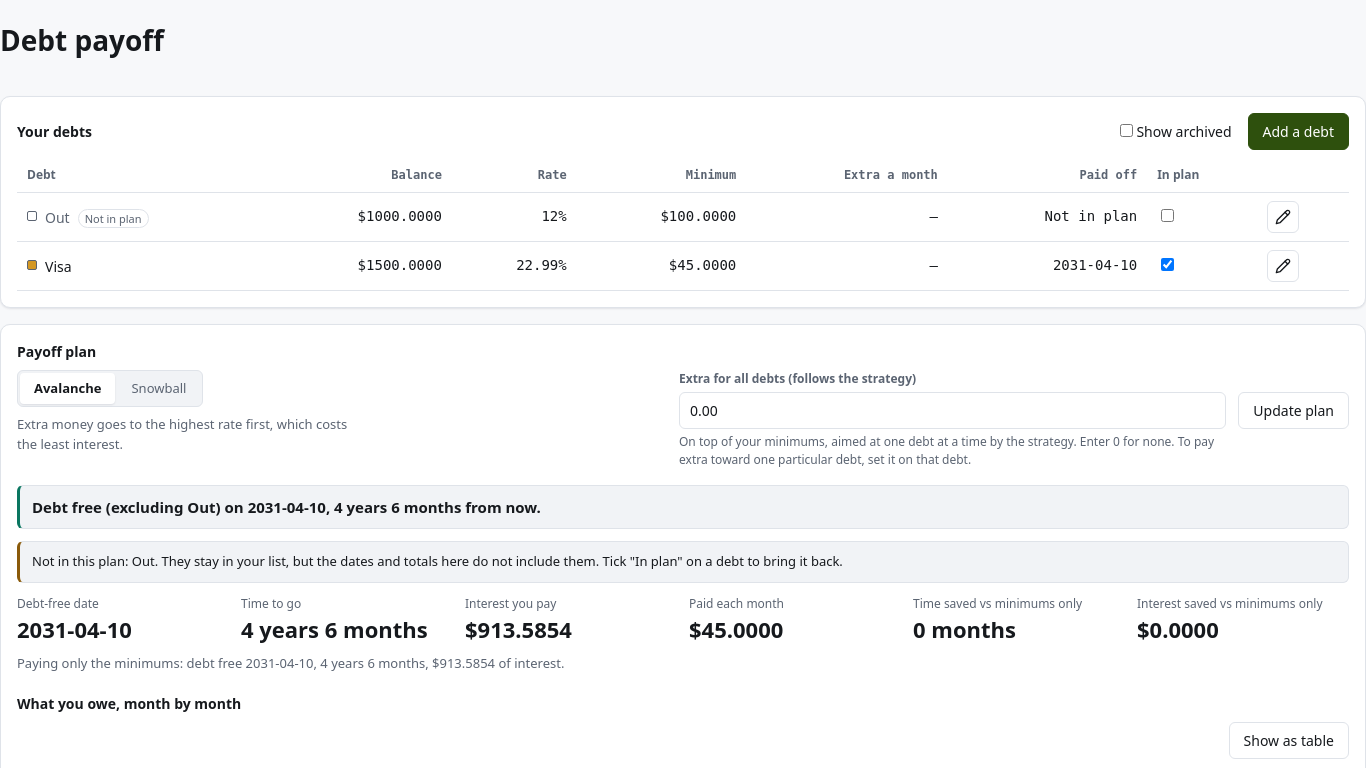
Test: leaving a debt out of the plan › is read from the saved debt when editing, and an archived debt cannot be switched on
Expected: the text "Debt free (excluding Out) on 2031-04-10, 4 years 6 months from now." is shown, x1=17 y1=484 x2=1349 y2=529
What coordinates should you click on to do the following:
click the button named "Edit Out"
I would click on:
 (1283, 216)
Its box is x1=1267 y1=200 x2=1299 y2=232.
(page scrolled)
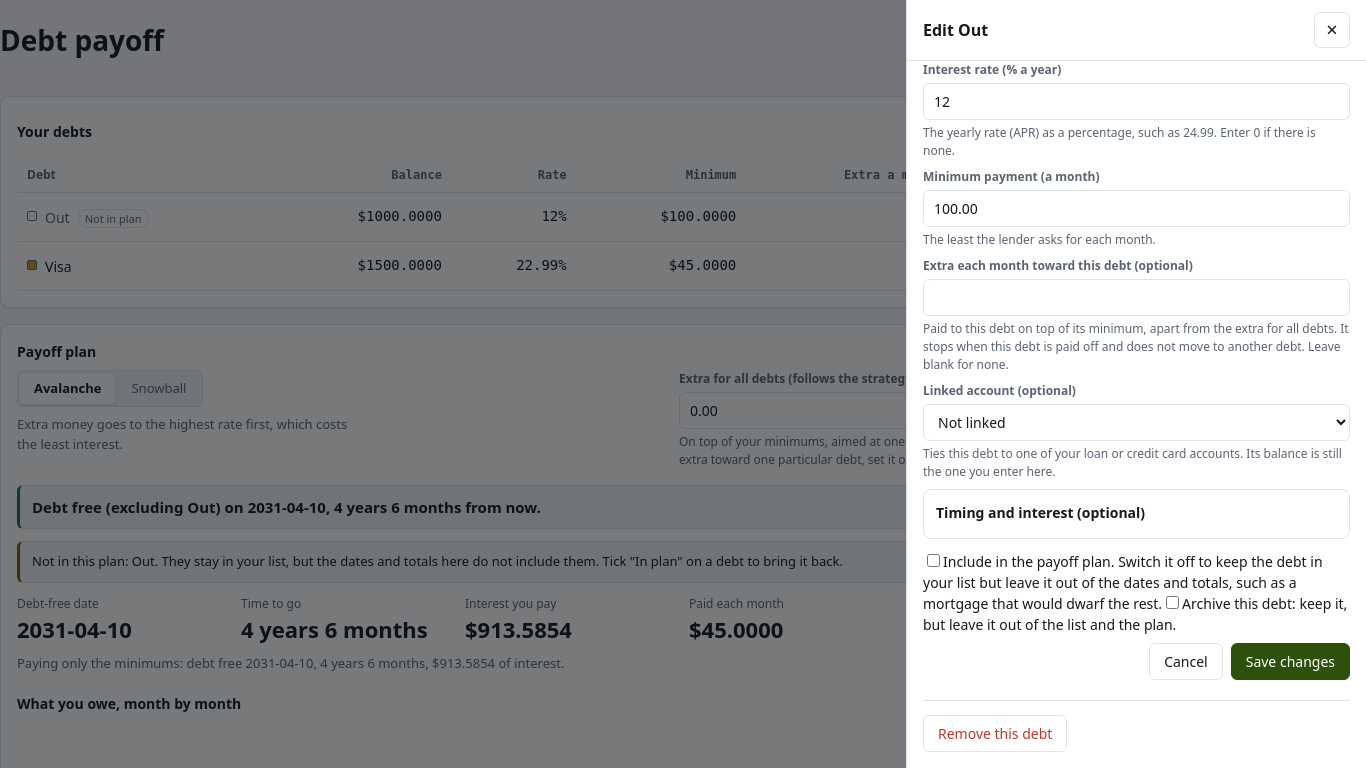
Expected: the checkbox labelled "Include in the payoff plan" is not checked, x1=927 y1=554 x2=940 y2=567
What coordinates should you click on to do the following:
click the checkbox labelled "Archive this debt"
I would click on:
 (1173, 602)
Its box is x1=1166 y1=596 x2=1179 y2=609.
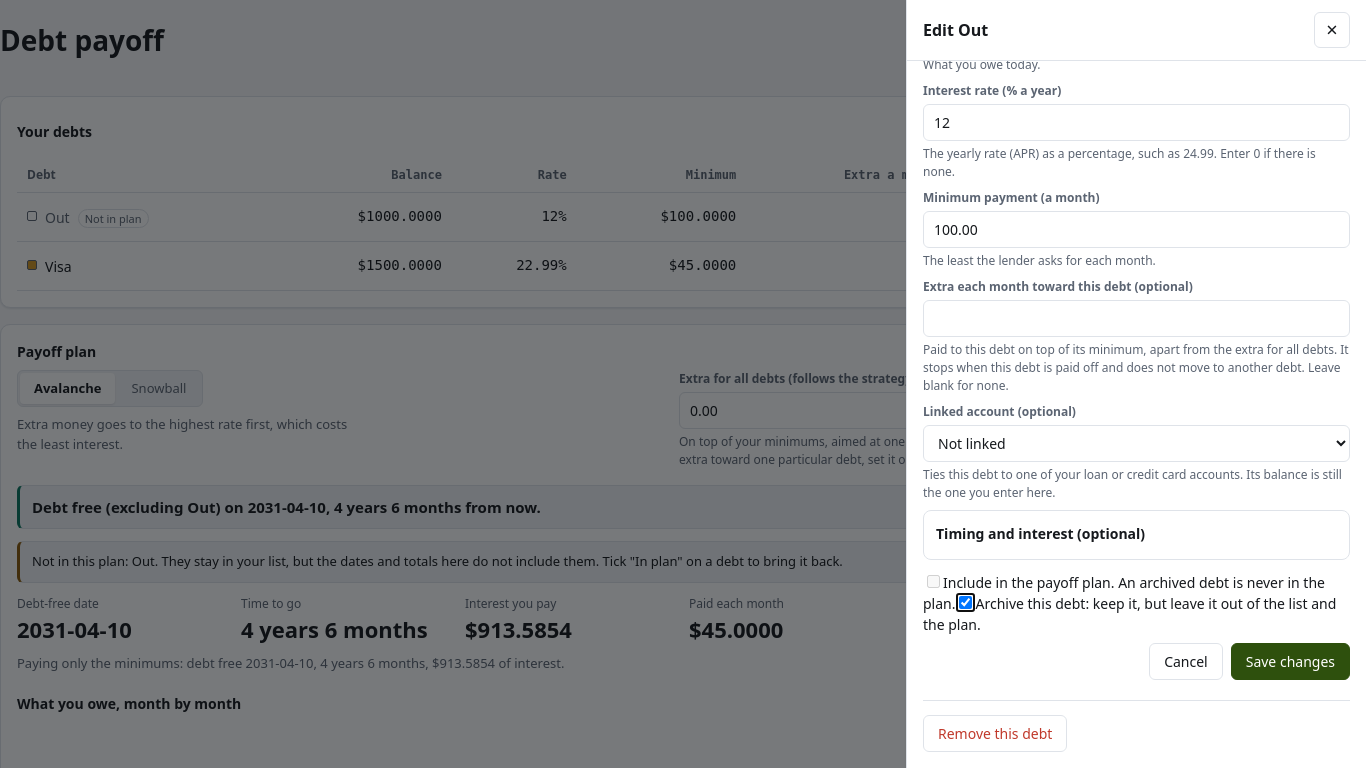
Expected: the checkbox labelled "Include in the payoff plan" is disabled, x1=927 y1=575 x2=940 y2=588
Expected: the text "An archived debt is never in the plan" is shown, x1=923 y1=573 x2=1325 y2=613
